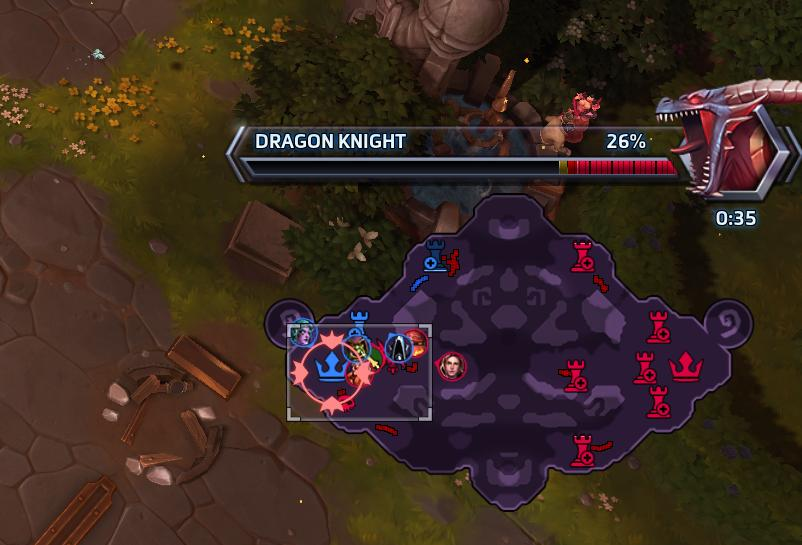blue nexus: (313, 349, 354, 386)
blue player: (385, 332, 413, 364), (287, 318, 315, 348), (342, 337, 370, 364), (296, 325, 311, 343)
blue tower: (422, 238, 447, 272), (346, 310, 369, 340)
red nexus: (666, 350, 708, 384)
red player: (435, 351, 467, 381), (402, 328, 429, 359), (343, 362, 362, 386)
red tower: (567, 430, 597, 470), (568, 238, 598, 276), (645, 307, 673, 346), (643, 384, 674, 418), (630, 352, 660, 386), (561, 360, 591, 392)
